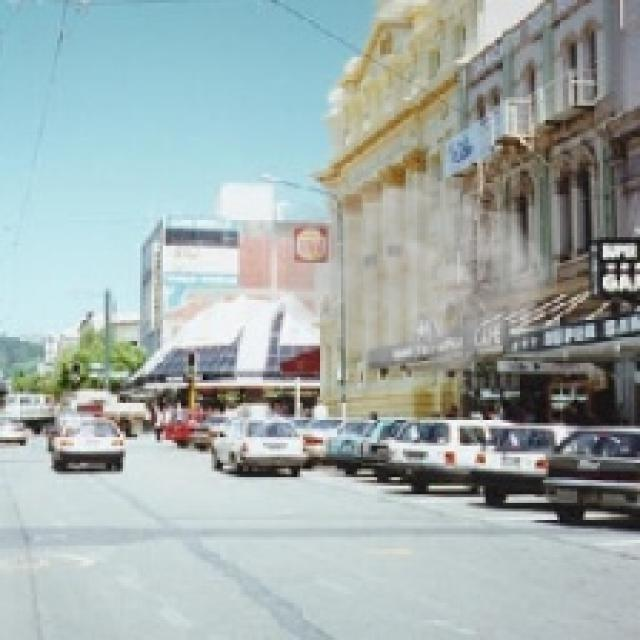smoke: (286, 166, 557, 380)
